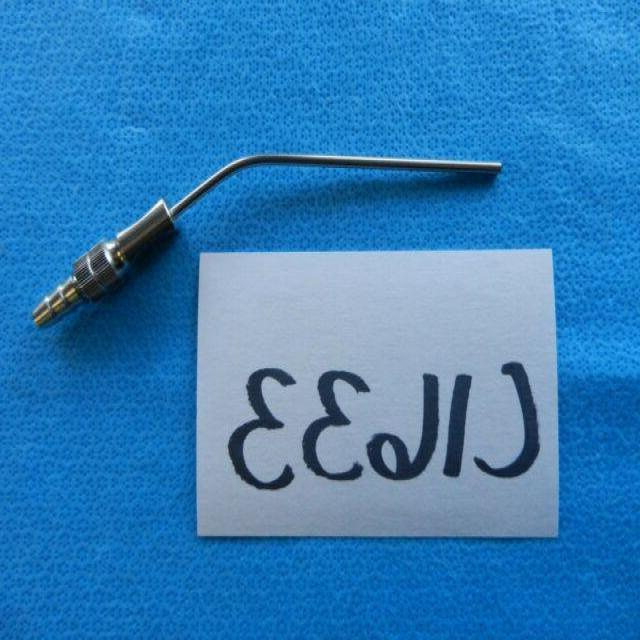Frazier: (29, 142, 506, 340)
